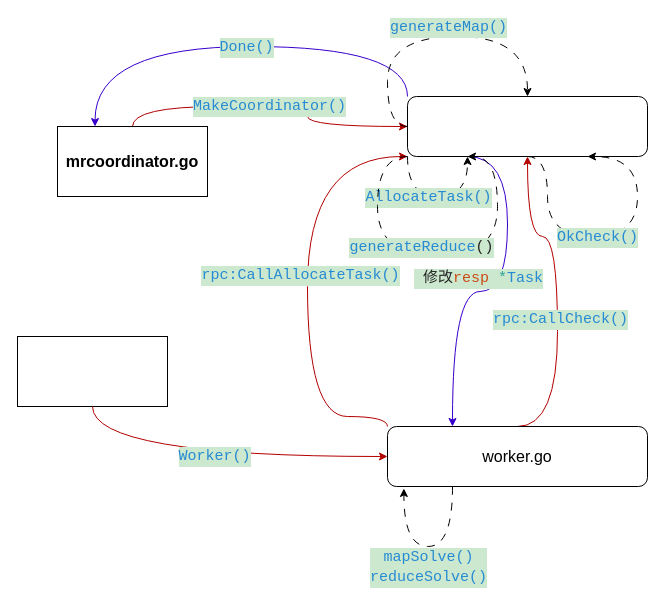
This 665x604 diagram has some shape labels left out. The shapes that lost their labels are listed below. From the top down, each one's centre as x and y in pixels, then its label:
the point at 527,126: coordinator.go
the point at 92,371: mrworker.go
